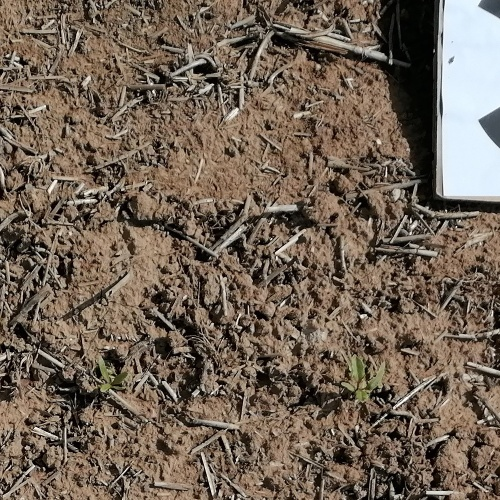beet: (341, 355, 387, 401), (97, 359, 130, 394)
